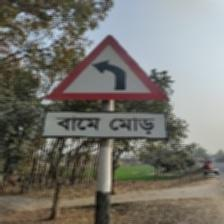Left-Turn: (41, 34, 171, 143)
